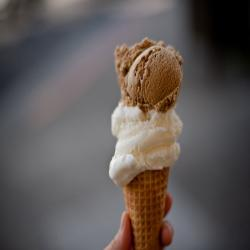icecream: (101, 40, 189, 193)
